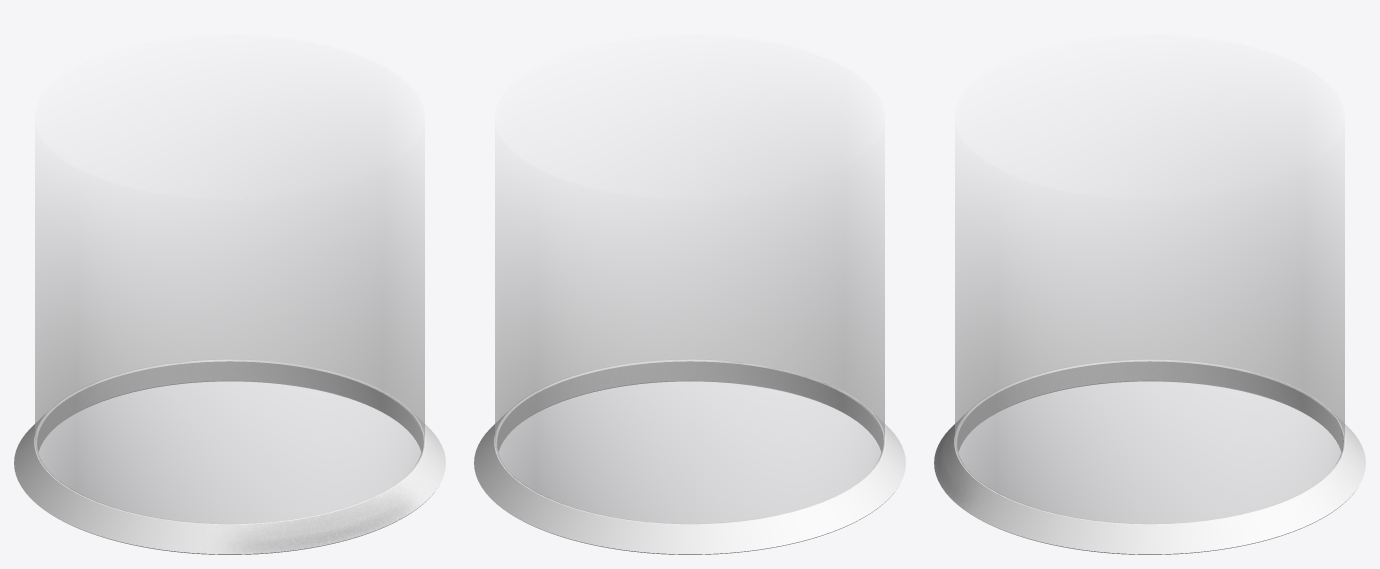
The model's file is vrteleporttarget.gltf.
The picture shows the model from 3 angles, left to right: view 1: azimuth 30°, elevation 25°; view 2: azimuth 150°, elevation 25°; view 3: azimuth 270°, elevation 25°; orthographic projection.
Visible parts, largest first — view 1: VRTeleportTarget; view 2: VRTeleportTarget; view 3: VRTeleportTarget.
Boxes of the visible parts, x1,y1,x2,y2 form: VRTeleportTarget: (14,123,445,554); VRTeleportTarget: (474,123,905,554); VRTeleportTarget: (934,123,1365,554).
Bounding box in the file's own units: 0.5326 × 0.5 × 0.5326.
